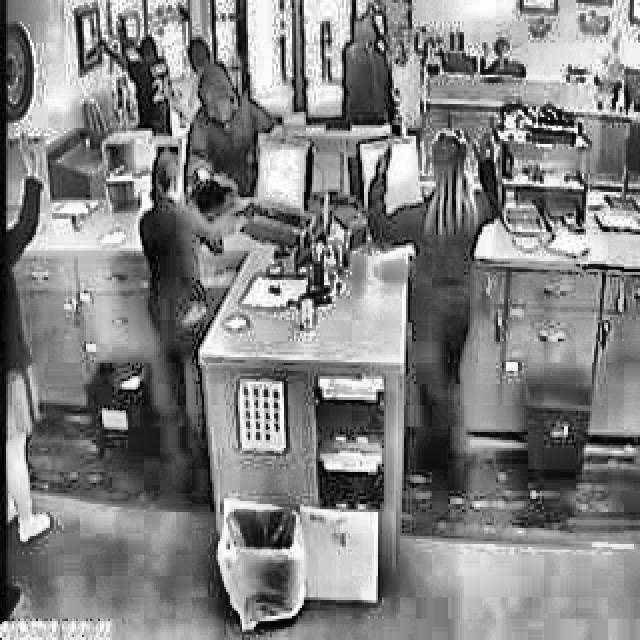robbery: (362, 122, 509, 258), (182, 60, 282, 229), (92, 20, 195, 128), (336, 7, 403, 136)
